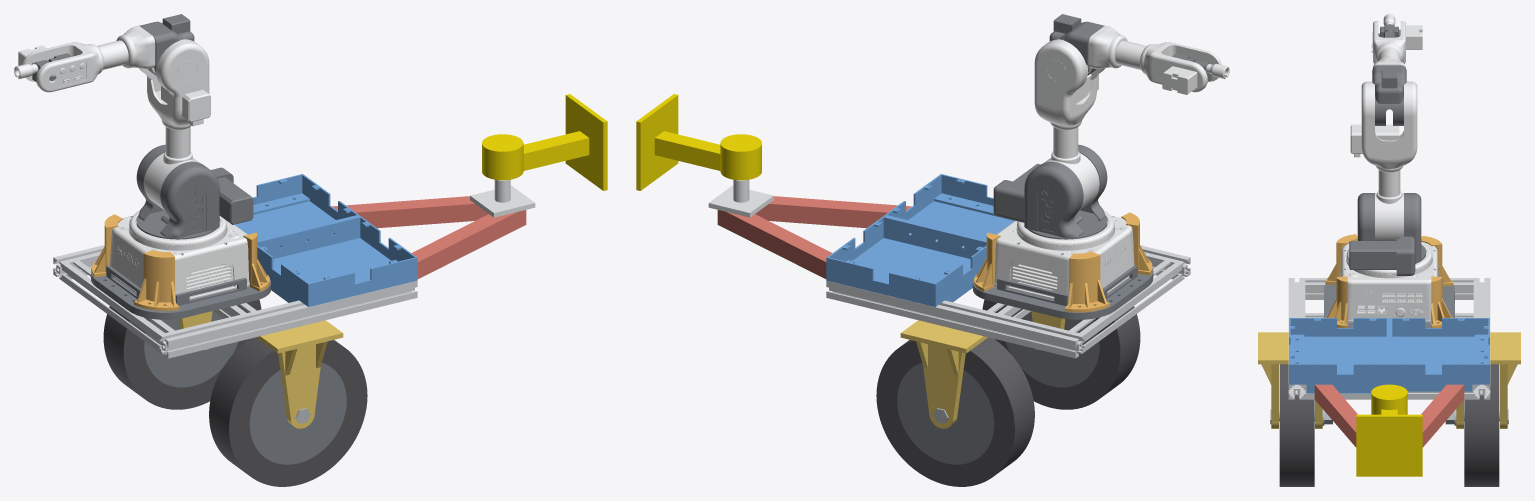
File: cart.glb
3 renders of one model, left to right at view 1: azimuth 30°, elevation 25°; view 2: azimuth 150°, elevation 25°; view 3: azimuth 270°, elevation 25°, orthographic. The views are drawn at different scales.
Visible parts, largest first — view 1: ned2_3-_ARM_-_NED_2_VL__URDF_, wheel_tire_HF35459_L, arm_tray_half_H_plusY, wheel_hub_HF35459_L, rail_front_cross, ned2_2-_SHOULDER_-_NED_2_VL__URDF_, SPOT_coupler_bar_PLACEHOLDER, aframe_rod_L, wheel_fork_PRINT_L, arm_arm_keybar_rear_rail, hitch_ball; view 2: ned2_3-_ARM_-_NED_2_VL__URDF_, arm_tray_half_H_plusY, wheel_tire_HF35459_L, wheel_hub_HF35459_L, rail_front_cross, ned2_2-_SHOULDER_-_NED_2_VL__URDF_, SPOT_coupler_bar_PLACEHOLDER, aframe_rod_L, wheel_fork_PRINT_L, arm_arm_keybar_rear_rail, hitch_ball; view 3: arm_tray_half_H_plusY, ned2_3-_ARM_-_NED_2_VL__URDF_, wheel_tire_HF35459_L, ned2_2-_SHOULDER_-_NED_2_VL__URDF_, SPOT_coupler_bar_PLACEHOLDER, rail_front_cross, wheel_fork_PRINT_L, aframe_rod_L, arm_arm_keybar_rear_rail, wheel_hub_HF35459_L, axle_nylock_nut_L.
Part boxes in pixels (bbox=[...]): ned2_3-_ARM_-_NED_2_VL__URDF_: bbox=[14, 25, 249, 299]; wheel_tire_HF35459_L: bbox=[103, 299, 367, 486]; arm_tray_half_H_plusY: bbox=[234, 174, 417, 306]; wheel_hub_HF35459_L: bbox=[90, 265, 346, 464]; rail_front_cross: bbox=[53, 245, 417, 358]; ned2_2-_SHOULDER_-_NED_2_VL__URDF_: bbox=[32, 14, 253, 239]; SPOT_coupler_bar_PLACEHOLDER: bbox=[482, 94, 607, 190]; aframe_rod_L: bbox=[332, 196, 526, 278]; wheel_fork_PRINT_L: bbox=[178, 311, 343, 428]; arm_arm_keybar_rear_rail: bbox=[92, 214, 269, 310]; hitch_ball: bbox=[470, 179, 535, 217]; ned2_3-_ARM_-_NED_2_VL__URDF_: bbox=[994, 25, 1229, 299]; arm_tray_half_H_plusY: bbox=[826, 174, 1014, 306]; wheel_tire_HF35459_L: bbox=[876, 299, 1140, 486]; wheel_hub_HF35459_L: bbox=[897, 265, 1153, 464]; rail_front_cross: bbox=[826, 245, 1190, 358]; ned2_2-_SHOULDER_-_NED_2_VL__URDF_: bbox=[993, 14, 1211, 239]; SPOT_coupler_bar_PLACEHOLDER: bbox=[636, 94, 761, 190]; aframe_rod_L: bbox=[717, 196, 911, 278]; wheel_fork_PRINT_L: bbox=[900, 311, 1065, 428]; arm_arm_keybar_rear_rail: bbox=[974, 212, 1152, 312]; hitch_ball: bbox=[708, 179, 773, 217]; arm_tray_half_H_plusY: bbox=[1289, 318, 1489, 393]; ned2_3-_ARM_-_NED_2_VL__URDF_: bbox=[1340, 14, 1438, 322]; wheel_tire_HF35459_L: bbox=[1279, 364, 1499, 486]; ned2_2-_SHOULDER_-_NED_2_VL__URDF_: bbox=[1349, 24, 1425, 275]; SPOT_coupler_bar_PLACEHOLDER: bbox=[1356, 384, 1422, 476]; rail_front_cross: bbox=[1288, 278, 1490, 399]; wheel_fork_PRINT_L: bbox=[1258, 332, 1520, 428]; aframe_rod_L: bbox=[1314, 384, 1464, 447]; arm_arm_keybar_rear_rail: bbox=[1325, 234, 1453, 327]; wheel_hub_HF35459_L: bbox=[1324, 278, 1454, 327]; axle_nylock_nut_L: bbox=[1270, 409, 1508, 425].
Size of the model in its own units: 1.05 by 0.7609 by 0.4758.
